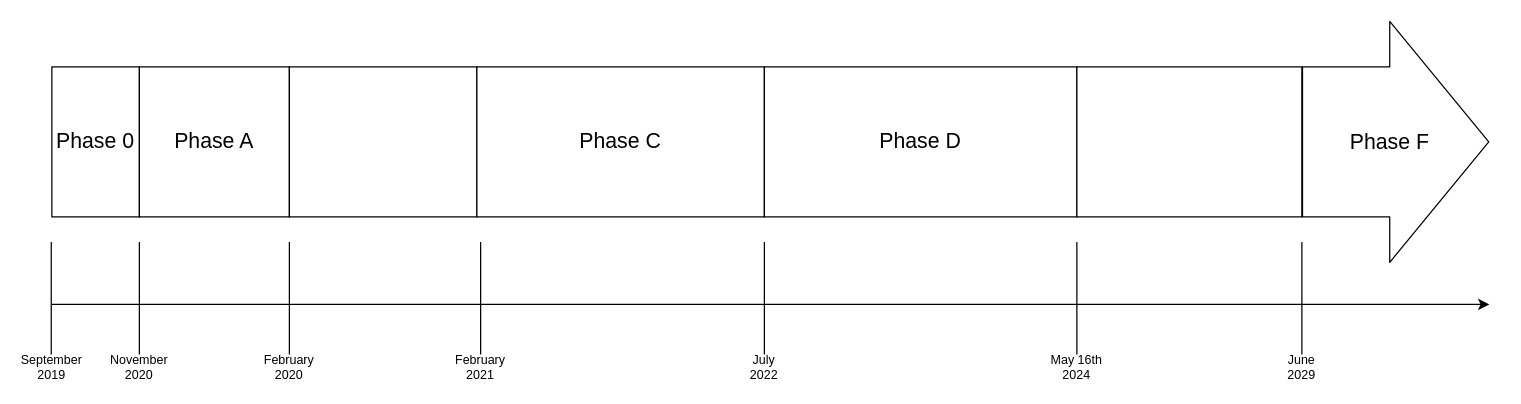
Image size: 1521x404. Some labels were removed from this diagram. The centre of each missing label's shape, as x and y in pixels:
"Phase B" goes at pixel 382 141.
"Phase E" goes at pixel 1189 141.
